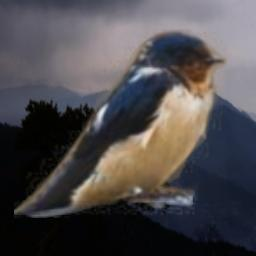Swallow: (14, 29, 227, 218)
